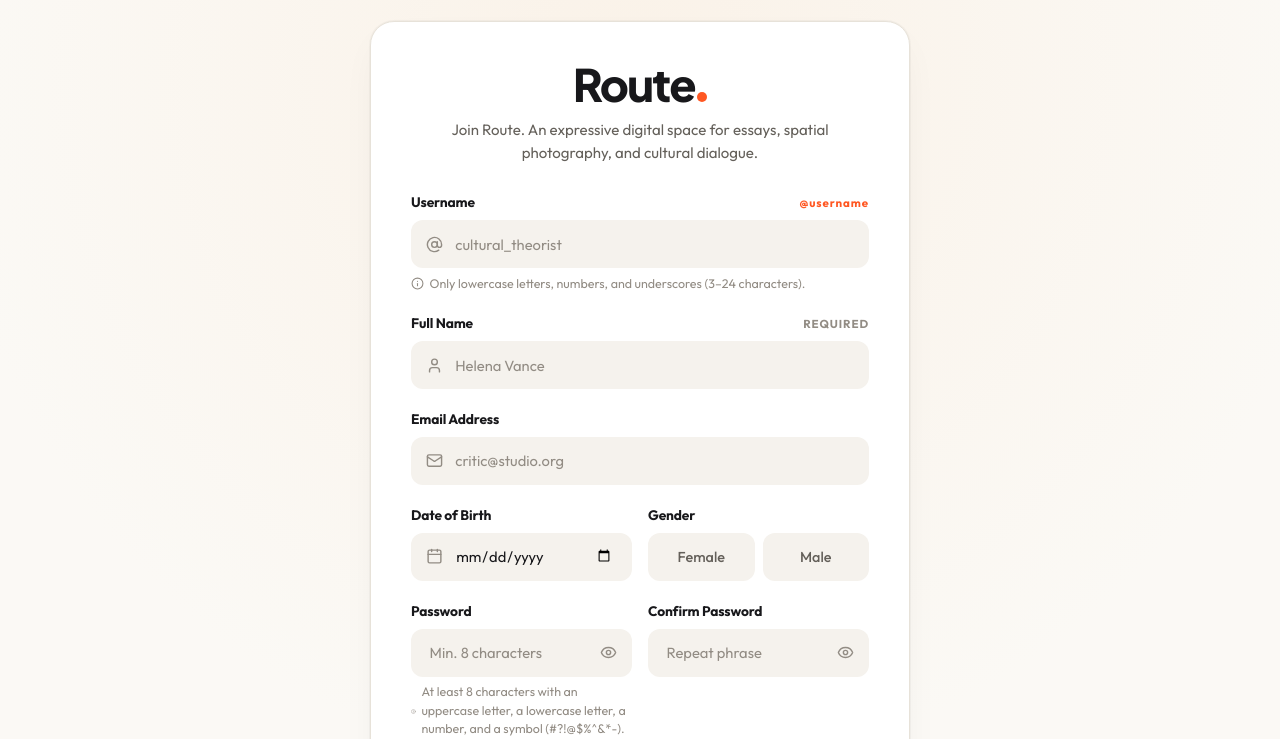
Test: SignUp password safety › never renders the submitted password when the backend echoes it
The width and height of the screenshot is (1280, 739).
Type "nada_dev" into the field labelled "Username".
click(640, 244); type("nada_dev")  # box [411,220,869,268]
Type "Nada Nashaat" into the field labelled "Full Name".
click(640, 365); type("Nada Nashaat")  # box [411,341,869,389]
Type "nada@example.com" into the field labelled "Email Address".
click(640, 461); type("nada@example.com")  # box [411,437,869,485]
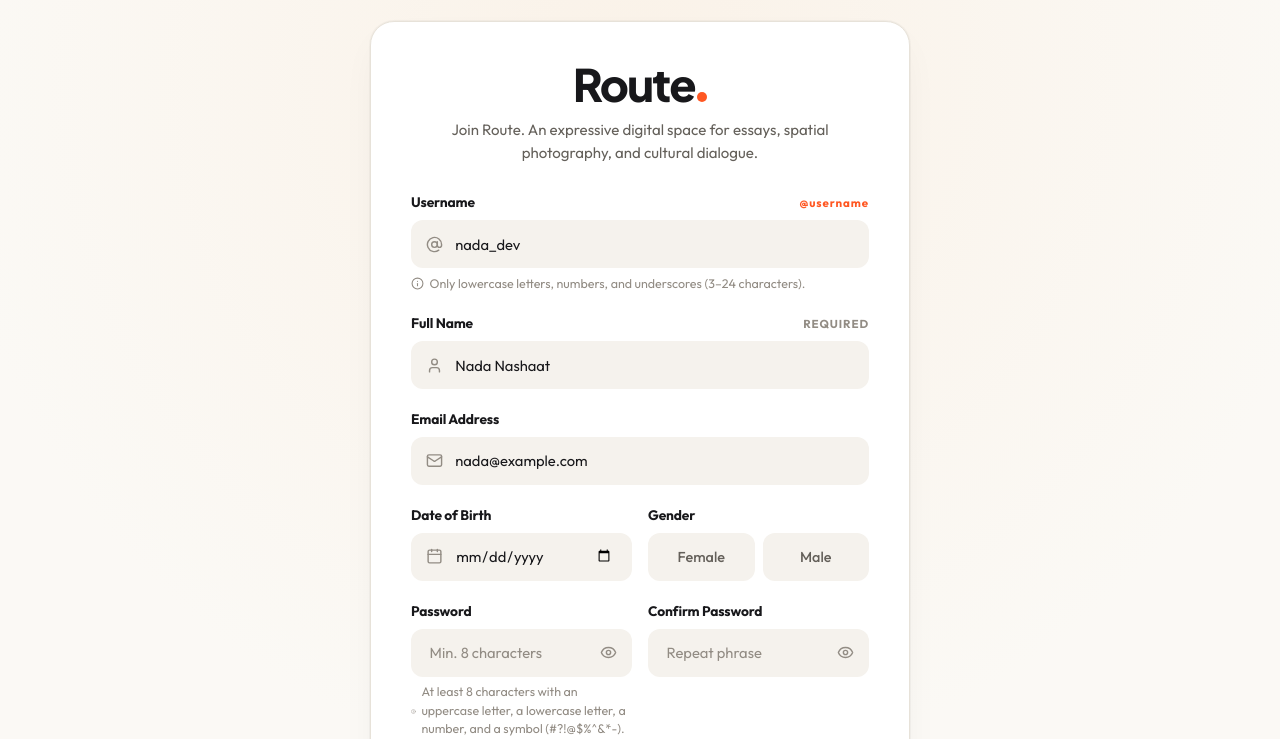
Type "Secret1!" into the password field labelled "Password".
click(522, 653); type("Secret1!")  # box [411,629,632,677]
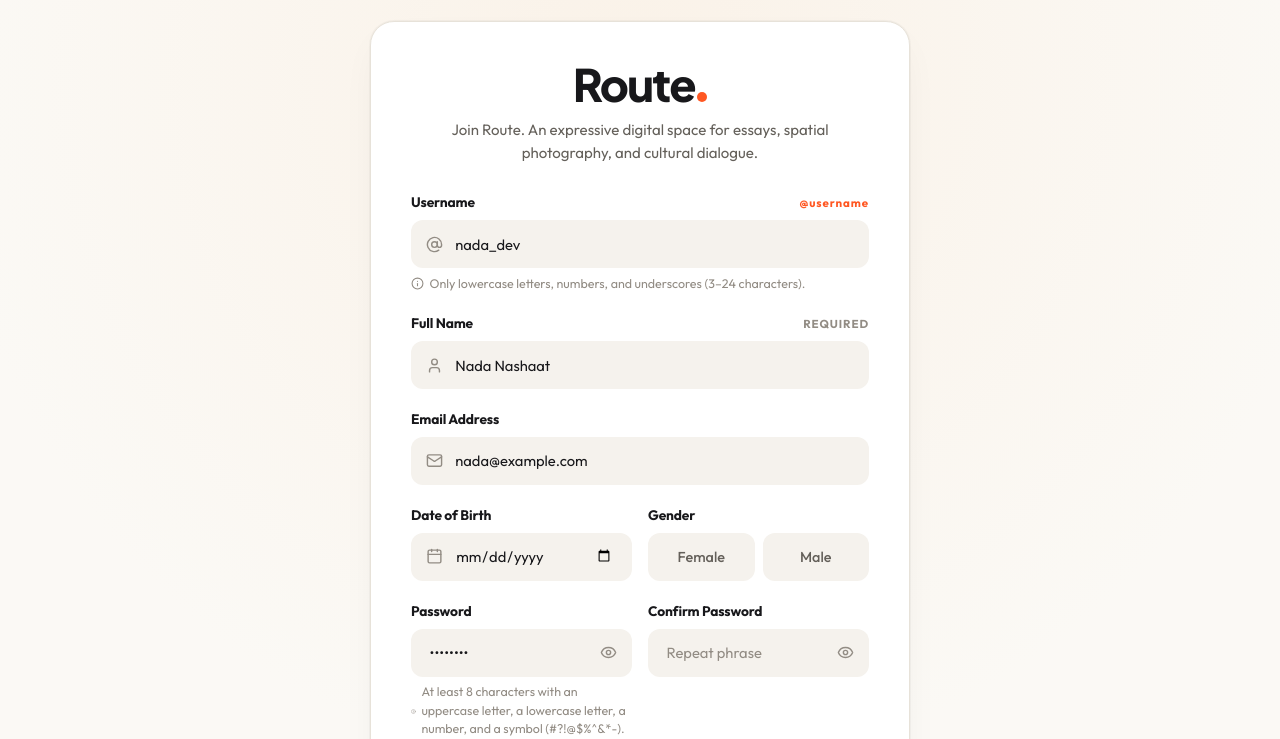
Type "Secret1!" into the password field labelled "Confirm Password".
click(758, 653); type("Secret1!")  # box [648,629,869,677]
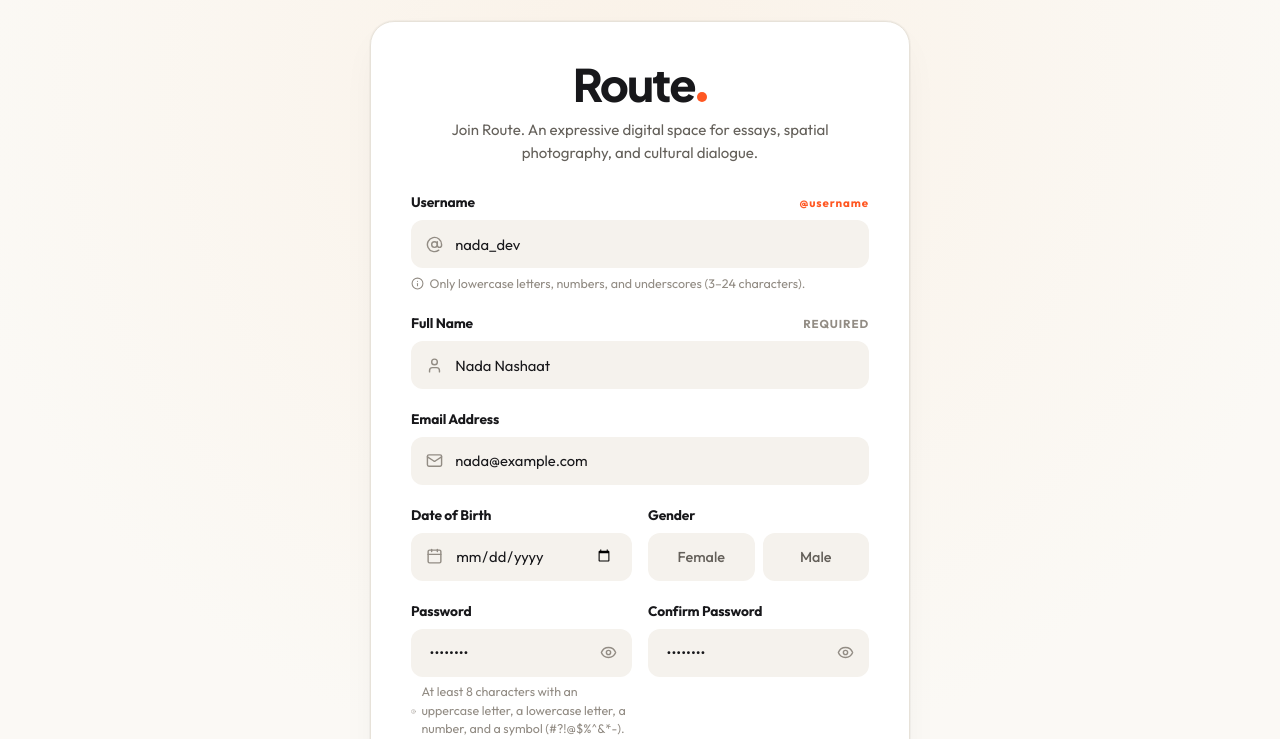
Type "2003-06-15" into the date field labelled "Date of Birth".
click(522, 557); type("2003-06-15")  # box [411,533,632,581]
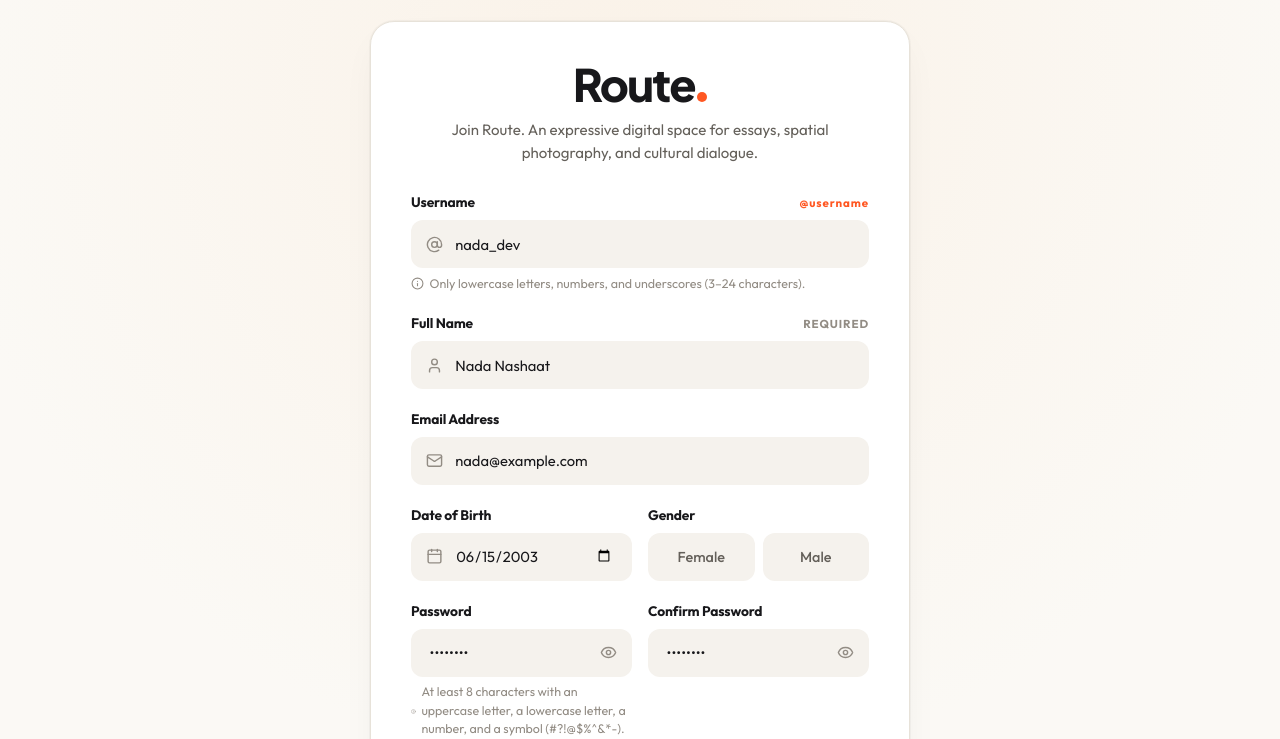
Click the button "Male".
click(816, 557)  # box [762,533,869,581]
(page scrolled)
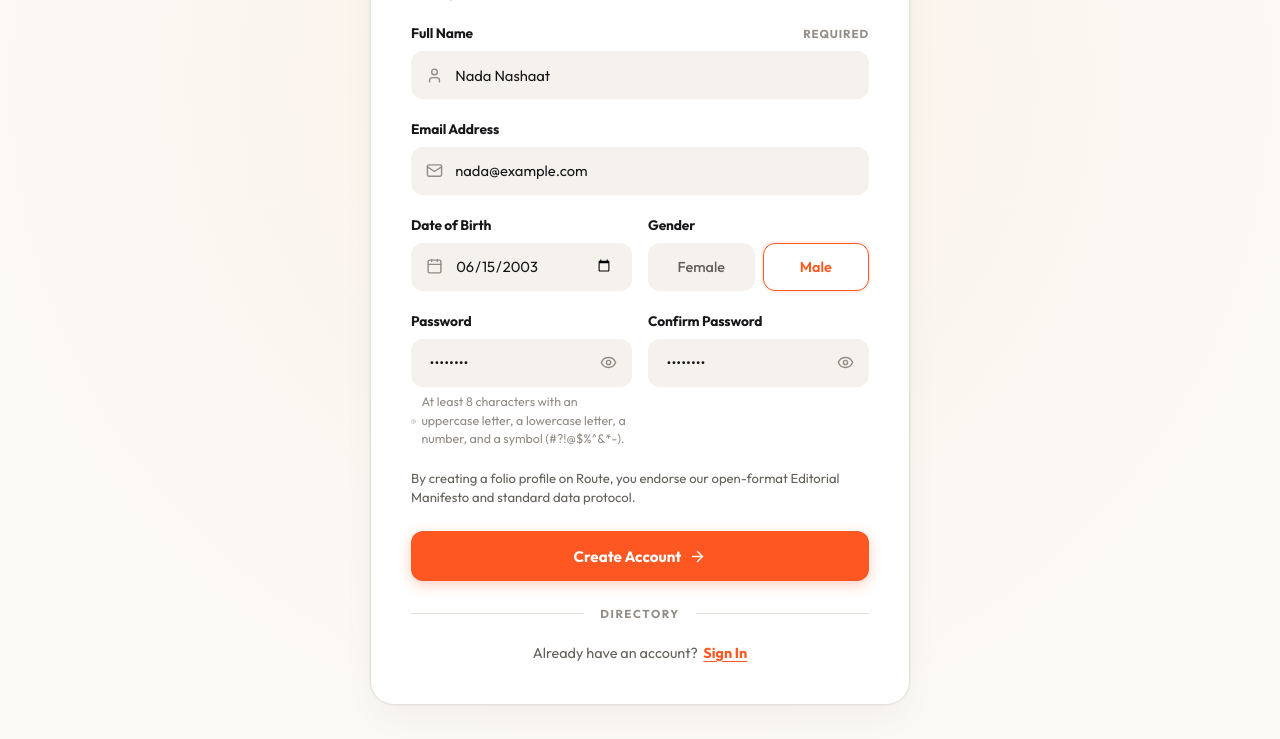
Click the button "Create Account".
click(640, 556)  # box [411,531,869,581]
(page scrolled)
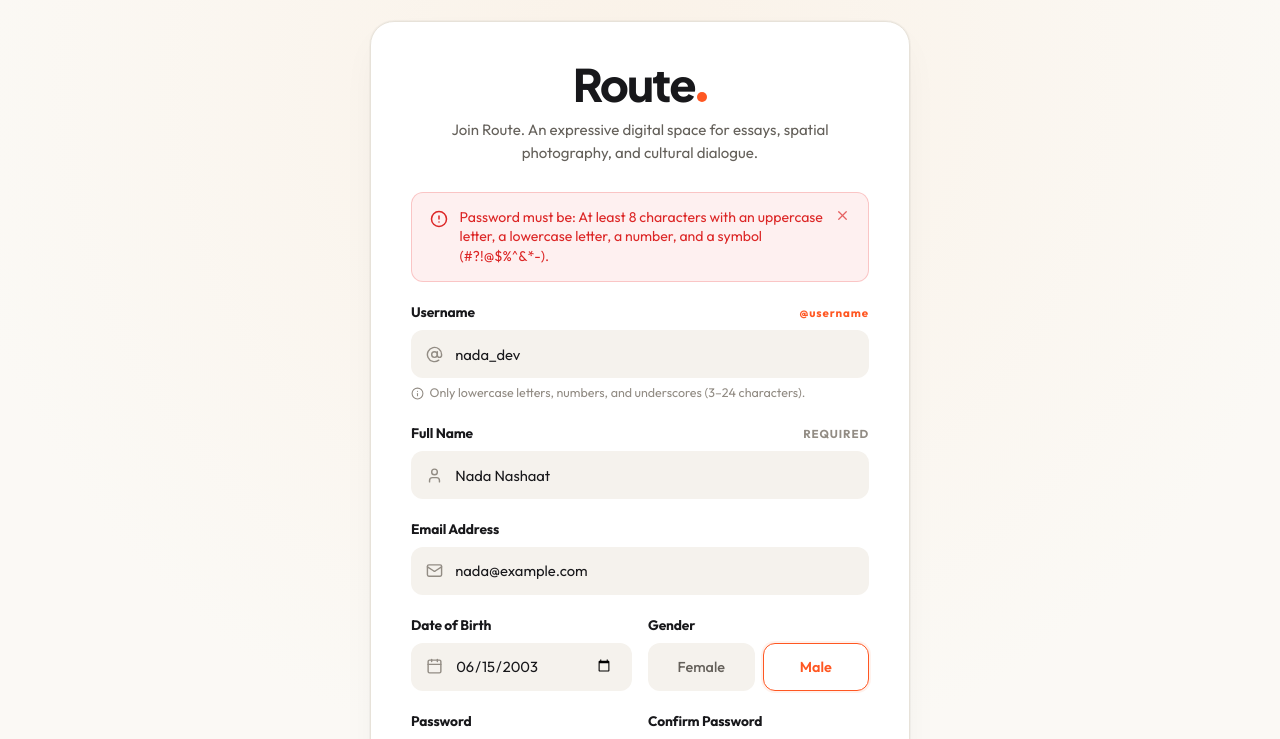
Now the message shows "At least 8 characters", box [460,208,823,265]
